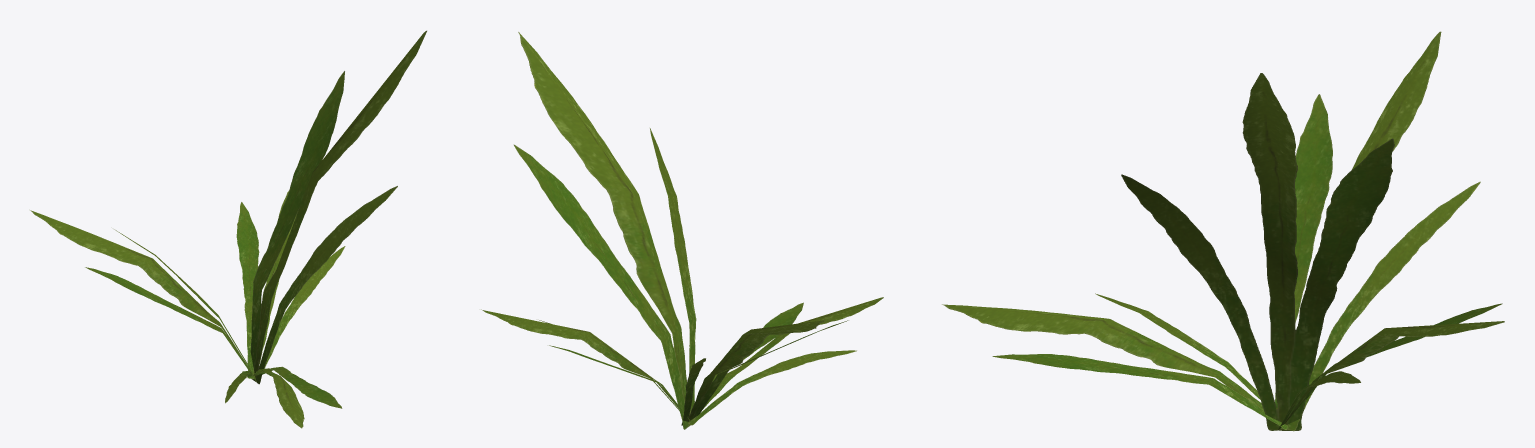
File: SM_Grass_02.fbx
The picture shows the model from 3 angles, left to right: view 1: azimuth 30°, elevation 25°; view 2: azimuth 150°, elevation 25°; view 3: azimuth 270°, elevation 25°; orthographic projection. The views are drawn at different scales.
Parts seen in each view (by area): view 1: SM_Grass_02_LOD0; view 2: SM_Grass_02_LOD0; view 3: SM_Grass_02_LOD0.
Part boxes in pixels (<box>): SM_Grass_02_LOD0: <box>30,30,426,428</box>; SM_Grass_02_LOD0: <box>481,32,883,429</box>; SM_Grass_02_LOD0: <box>942,31,1504,431</box>.
Size of the model in its own units: 50.34 by 47.23 by 43.65.
